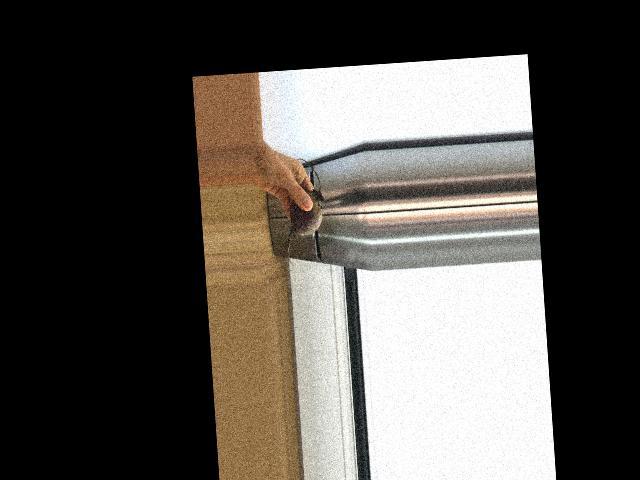beet: (280, 157, 327, 267)
